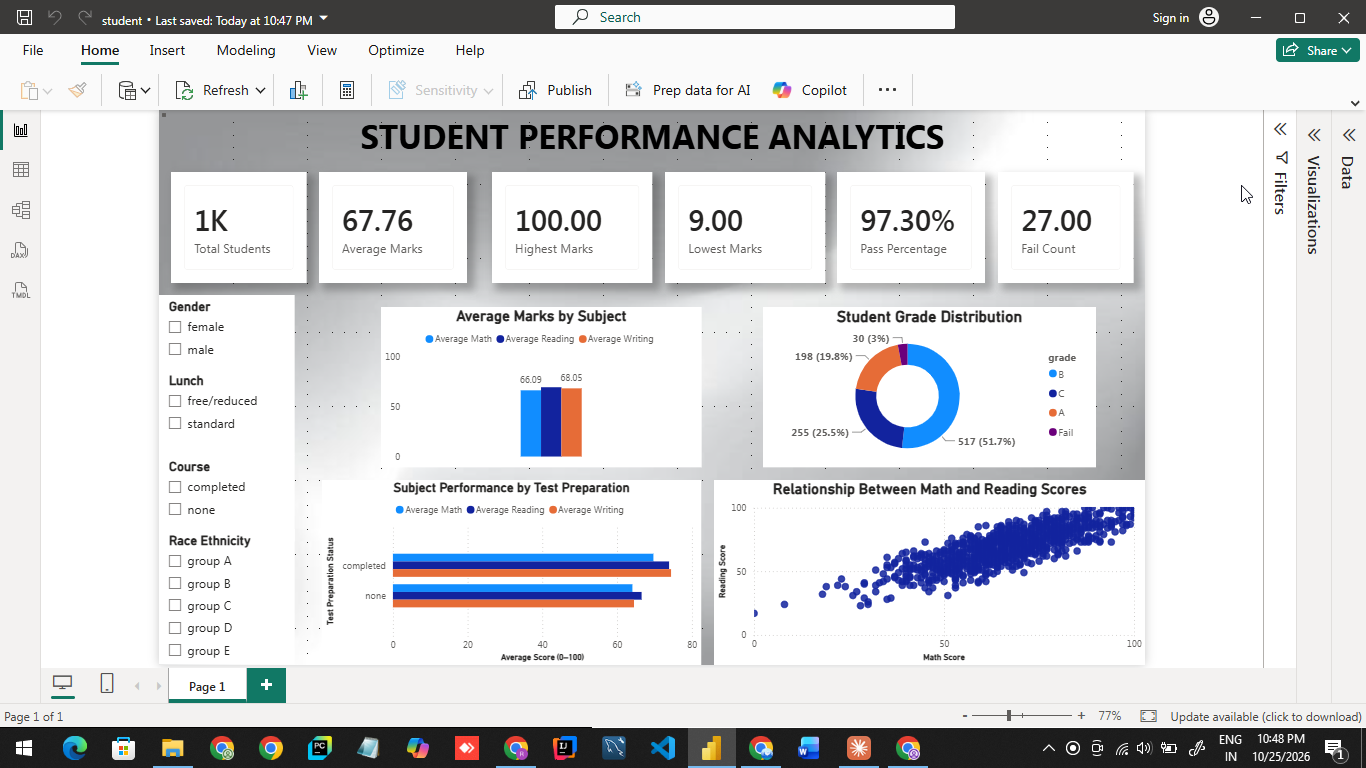

Layout of this report page (visuals, bound fields, positions):
{"tool":"powerbi","page":{"name":"Page 1","canvas":[1280,720],"ordinal":0},"visuals":[{"type":"cardVisual","fields":{"Data":["Student.Total Students"]},"box":[16,80,176,144],"z":0},{"type":"cardVisual","fields":{"Data":["Student.Average Marks"]},"box":[208,80,192,144],"z":1000},{"type":"cardVisual","fields":{"Data":["Student.Highest Marks"]},"box":[432,80,208,144],"z":2000},{"type":"cardVisual","fields":{"Data":["Student.Lowest Marks"]},"box":[656,80,208,144],"z":3000},{"type":"cardVisual","fields":{"Data":["Student.Pass Percentage"]},"box":[880,80,192,144],"z":4000},{"type":"cardVisual","fields":{"Data":["Student.Fail Count"]},"box":[1088,80,176,144],"z":5000},{"type":"clusteredColumnChart","title":"Average Marks by Subject","fields":{"Y":["Student.Average Math","Student.Average Reading","Student.Average Writing"]},"box":[288,256,416,208],"z":6000},{"type":"donutChart","title":"Student Grade Distribution","fields":{"Category":["Student.grade"],"Y":["CountNonNull(Student.grade)"]},"box":[784,256,432,208],"z":7000},{"type":"clusteredBarChart","title":"Subject Performance by Test Preparation","fields":{"Category":["Student.test_preparation_course"],"Y":["Student.Average Math","Student.Average Reading","Student.Average Writing"]},"box":[210.8,479.7,491.9,240.5],"z":8000},{"type":"scatterChart","title":"Relationship Between Math and Reading Scores","fields":{"X":["Student.math_score"],"Y":["Student.reading_score"]},"box":[720,480,560,240],"z":9000},{"type":"slicer","fields":{"Values":["Student.gender"]},"box":[0,240,176,96],"z":10000},{"type":"actionButton","box":[0,0,13,13],"z":11000},{"type":"slicer","fields":{"Values":["Student.lunch"]},"box":[0,336,176,112],"z":12000},{"type":"slicer","fields":{"Values":["Student.test_preparation_course"]},"box":[0,448,176,112],"z":13000},{"type":"slicer","fields":{"Values":["Student.race_ethnicity"]},"box":[0,544,176,176],"z":14000},{"type":"textbox","box":[0,0,1280,80],"z":15000}]}

Visuals, with their boxes on the page's 1280x720 design canvas (x1, y1, x2, y2). These are canvas units, not pixel positions in the 1366x768 screenshot, which may show the page scaled, cropped or inside an application window:
cardVisual - Student.Total Students: [x1=16, y1=80, x2=192, y2=224]
cardVisual - Student.Average Marks: [x1=208, y1=80, x2=400, y2=224]
cardVisual - Student.Highest Marks: [x1=432, y1=80, x2=640, y2=224]
cardVisual - Student.Lowest Marks: [x1=656, y1=80, x2=864, y2=224]
cardVisual - Student.Pass Percentage: [x1=880, y1=80, x2=1072, y2=224]
cardVisual - Student.Fail Count: [x1=1088, y1=80, x2=1264, y2=224]
"Average Marks by Subject" clusteredColumnChart: [x1=288, y1=256, x2=704, y2=464]
"Student Grade Distribution" donutChart: [x1=784, y1=256, x2=1216, y2=464]
"Subject Performance by Test Preparation" clusteredBarChart: [x1=211, y1=480, x2=703, y2=720]
"Relationship Between Math and Reading Scores" scatterChart: [x1=720, y1=480, x2=1280, y2=720]
slicer - Student.gender: [x1=0, y1=240, x2=176, y2=336]
actionButton: [x1=0, y1=0, x2=13, y2=13]
slicer - Student.lunch: [x1=0, y1=336, x2=176, y2=448]
slicer - Student.test_preparation_course: [x1=0, y1=448, x2=176, y2=560]
slicer - Student.race_ethnicity: [x1=0, y1=544, x2=176, y2=720]
textbox: [x1=0, y1=0, x2=1280, y2=80]
